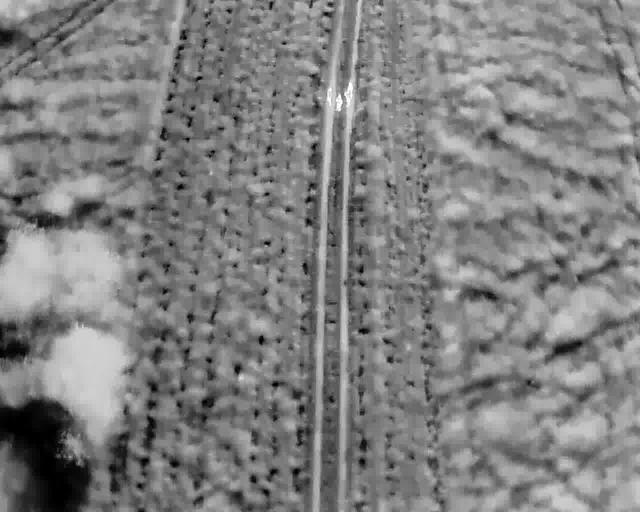person: (335, 94, 342, 111), (326, 87, 332, 106), (347, 79, 352, 99), (344, 91, 350, 106)
